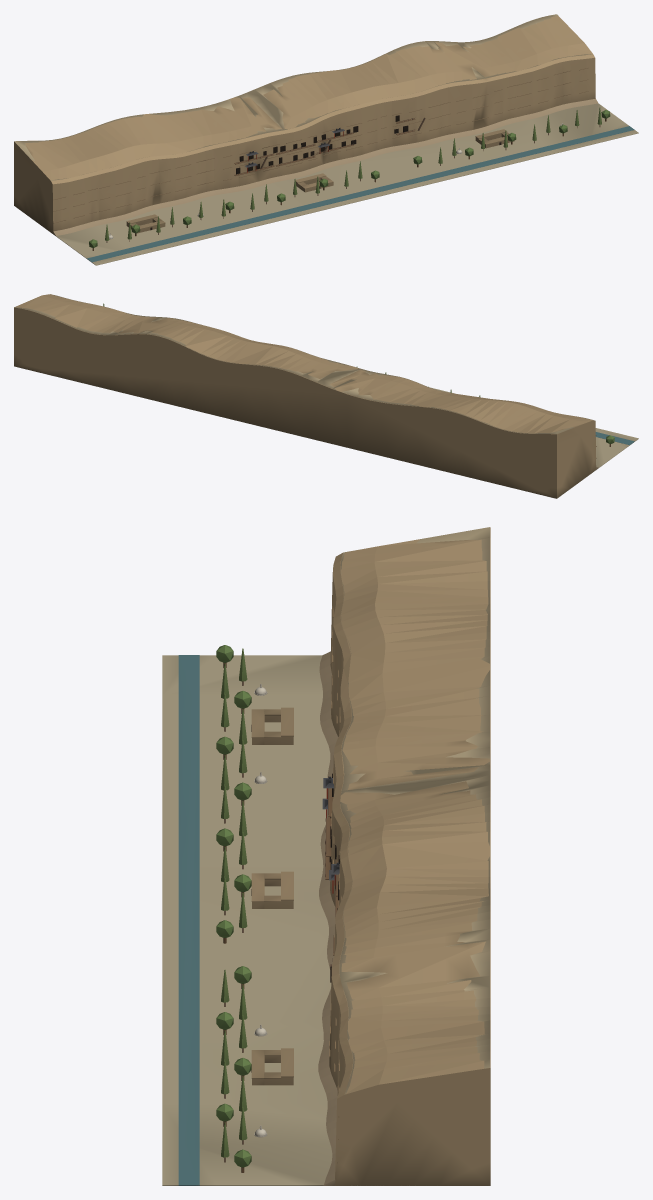
The model's file is mogao-500.glb.
The picture shows the model from 3 angles, top to bottom: view 1: azimuth 30°, elevation 25°; view 2: azimuth 150°, elevation 25°; view 3: azimuth 270°, elevation 25°; orthographic projection. The views are drawn at different scales.
Visible parts, largest first — view 1: p0_valley, p1_stupas, p2_trees; view 2: p0_valley; view 3: p0_valley, p2_trees, p1_stupas.
Part boxes in pixels (<box>): p0_valley: <box>14,14,638,265</box>; p1_stupas: <box>108,115,563,239</box>; p2_trees: <box>89,107,610,250</box>; p0_valley: <box>14,294,638,498</box>; p0_valley: <box>162,527,490,1185</box>; p2_trees: <box>216,645,339,1172</box>; p1_stupas: <box>251,684,339,1137</box>.
Bounding box in the file's own units: 420 × 48.31 × 110.
